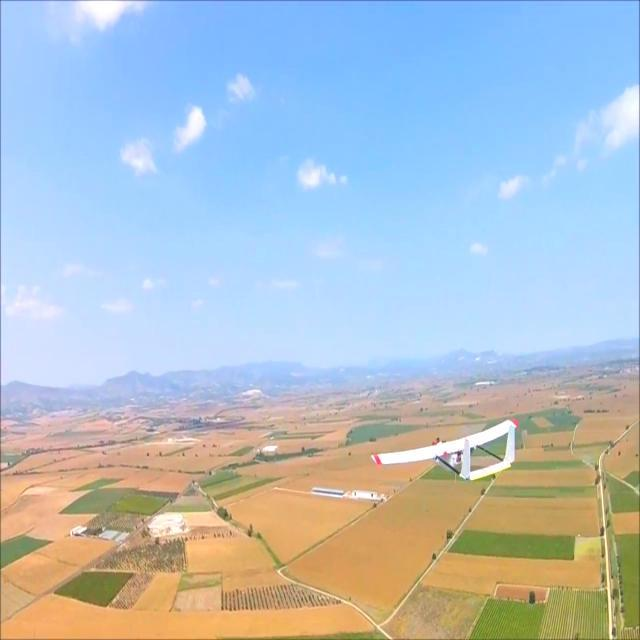iha: (372, 448, 525, 451)
